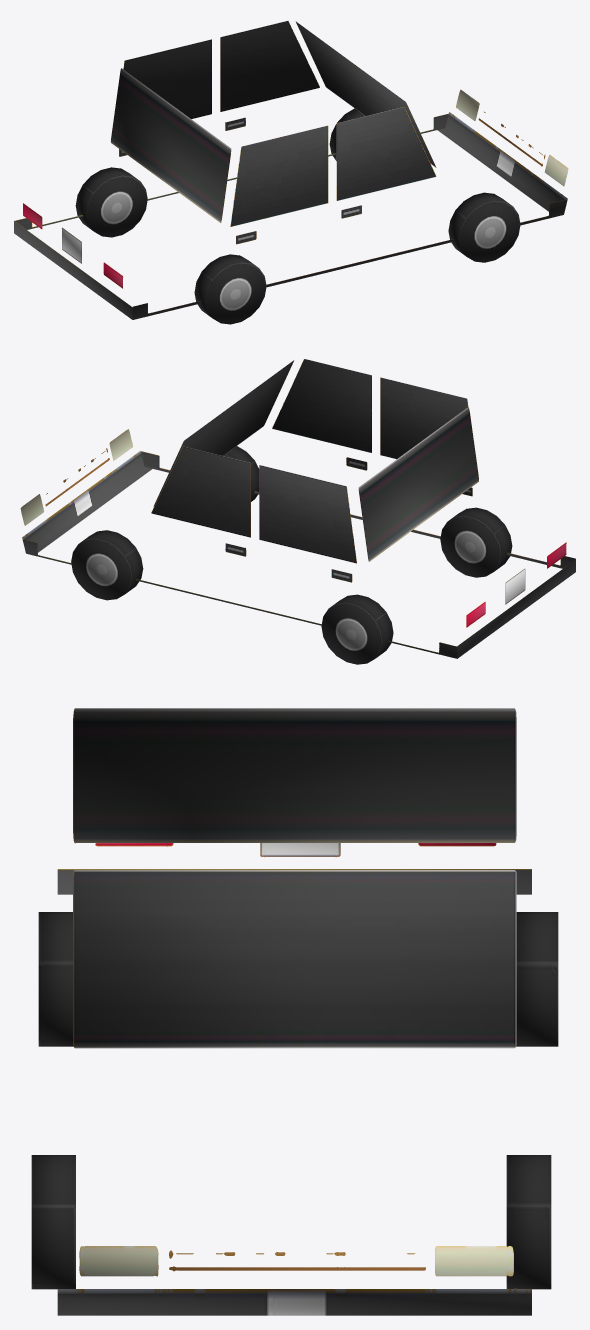
Rendered from carTry2.obj.
3 views of the same model, one above another, from view 1: azimuth 30°, elevation 25°; view 2: azimuth 150°, elevation 25°; view 3: azimuth 270°, elevation 25° (orthographic). The views are drawn at different scales.
Visible parts, largest first — view 1: Car_04_Car_04_CAR_07; view 2: Car_04_Car_04_CAR_07; view 3: Car_04_Car_04_CAR_07.
Boxes of the visible parts, x1,y1,x2,y2 form: Car_04_Car_04_CAR_07: (14, 21, 568, 324); Car_04_Car_04_CAR_07: (20, 359, 575, 664); Car_04_Car_04_CAR_07: (31, 708, 558, 1315).
Size of the model in its own units: 22.96 by 8.68 by 11.82.
Materials: 1 (1 with a texture image).
